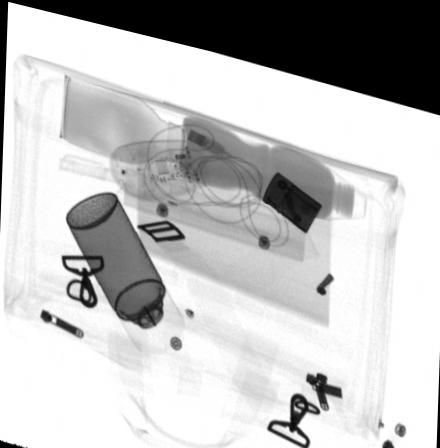Lighter: (262, 158, 323, 218)
Sprayer: (65, 185, 185, 348)
